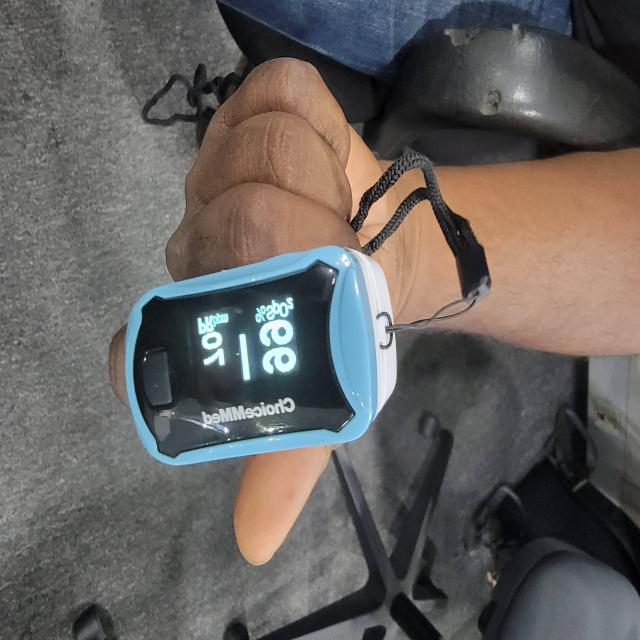spo2: (111, 247, 399, 470)
